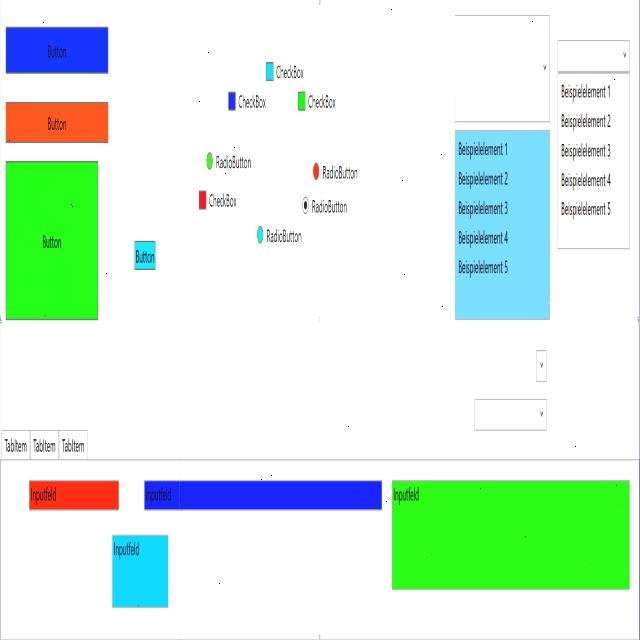button: (4, 155, 100, 322), (4, 95, 110, 148), (5, 24, 109, 78), (132, 234, 157, 275)
checkbox: (264, 58, 276, 86), (197, 185, 208, 215), (226, 86, 236, 114), (296, 88, 306, 114)
dropdownMenu: (454, 11, 551, 322), (557, 36, 631, 252), (473, 396, 548, 434), (535, 346, 548, 385)
input: (391, 474, 631, 596), (141, 470, 384, 518), (110, 531, 171, 610), (29, 474, 121, 516)
label: (276, 54, 306, 85), (311, 196, 349, 218), (322, 161, 360, 183), (266, 225, 303, 247), (216, 150, 252, 172), (307, 89, 337, 111), (208, 188, 238, 210), (237, 91, 267, 111)
menuItem: (457, 134, 509, 160), (560, 198, 613, 222), (560, 139, 612, 163), (560, 107, 612, 131), (457, 226, 510, 248), (560, 168, 612, 190), (560, 80, 611, 102), (456, 196, 509, 217), (458, 167, 510, 188), (458, 257, 510, 277)
radio: (311, 154, 321, 183), (256, 221, 265, 250), (301, 190, 310, 218), (206, 148, 214, 174)
tabControl: (0, 424, 92, 466)
